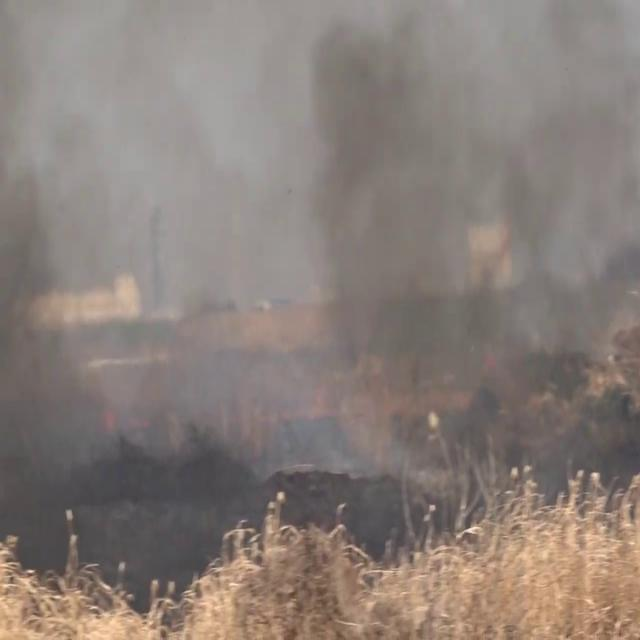Smoke: (0, 1, 640, 506)
